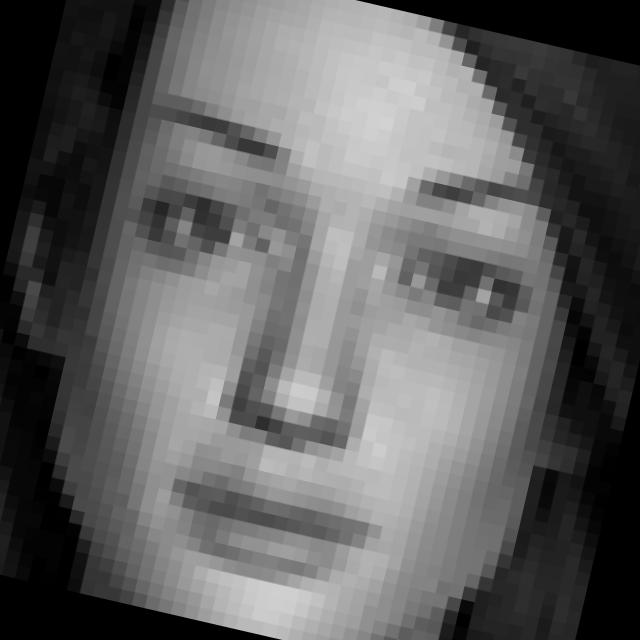neutral: (49, 80, 558, 630)
